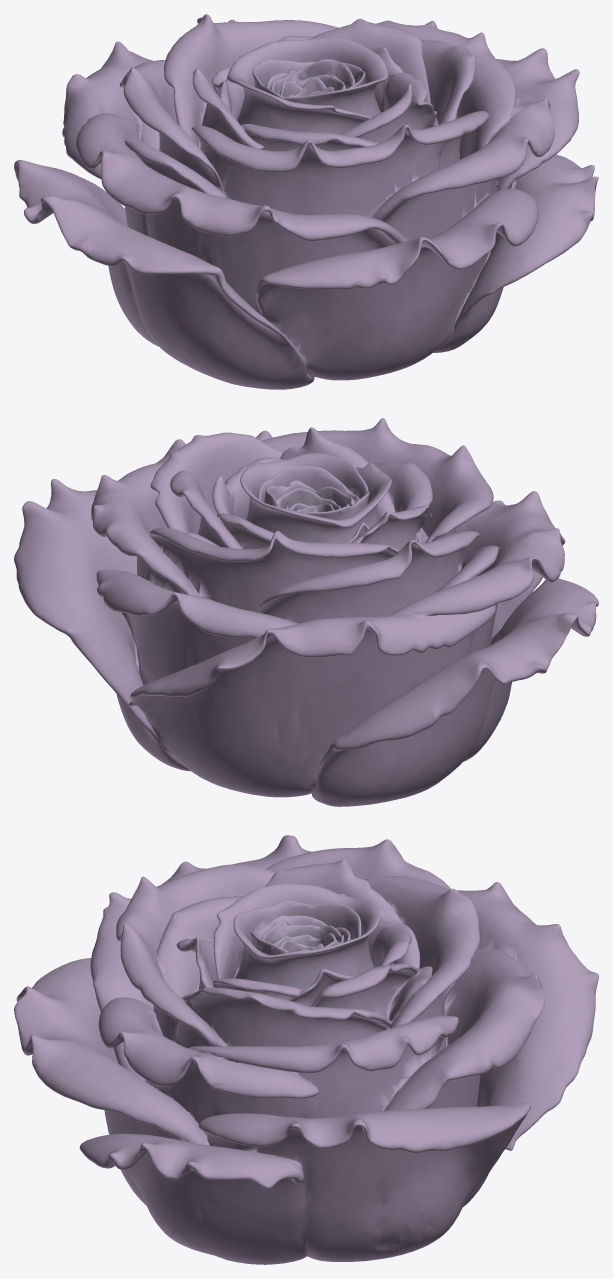
The model's file is Purple Rose no stem.glb.
The picture shows the model from 3 angles, top to bottom: view 1: azimuth 30°, elevation 25°; view 2: azimuth 150°, elevation 25°; view 3: azimuth 270°, elevation 25°; orthographic projection. The views are drawn at different scales.
Visible parts, largest first — view 1: tripo_node_9dfe082d-6cd3-4dd9-be1e-d3d06ff35310; view 2: tripo_node_9dfe082d-6cd3-4dd9-be1e-d3d06ff35310; view 3: tripo_node_9dfe082d-6cd3-4dd9-be1e-d3d06ff35310.
Boxes of the visible parts, <box> form: tripo_node_9dfe082d-6cd3-4dd9-be1e-d3d06ff35310: <box>14,14,598,389</box>; tripo_node_9dfe082d-6cd3-4dd9-be1e-d3d06ff35310: <box>14,418,598,806</box>; tripo_node_9dfe082d-6cd3-4dd9-be1e-d3d06ff35310: <box>14,835,598,1264</box>.
Bounding box in the file's own units: 1 × 0.4963 × 0.8887.
Materials: 1 (1 with a texture image).
